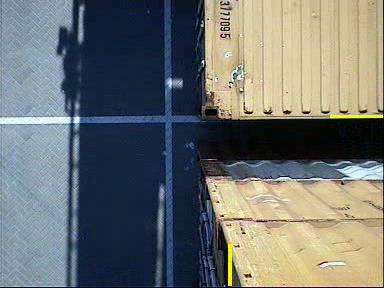groundmarker_2: (76, 69, 153, 116), (73, 207, 150, 254)
